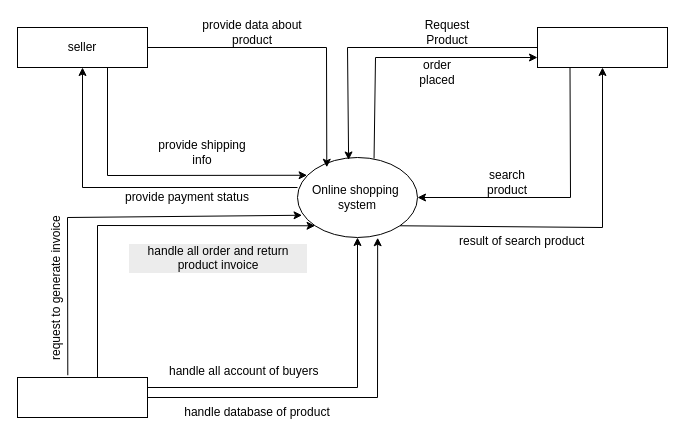
Some shapes in this 685 by 444 pixel diagram are drawn without their labels. Here are the shapes that lost their labels. From the top down, the box of each, then its label:
(536, 26, 668, 68): buyers
(16, 376, 148, 418): admin
